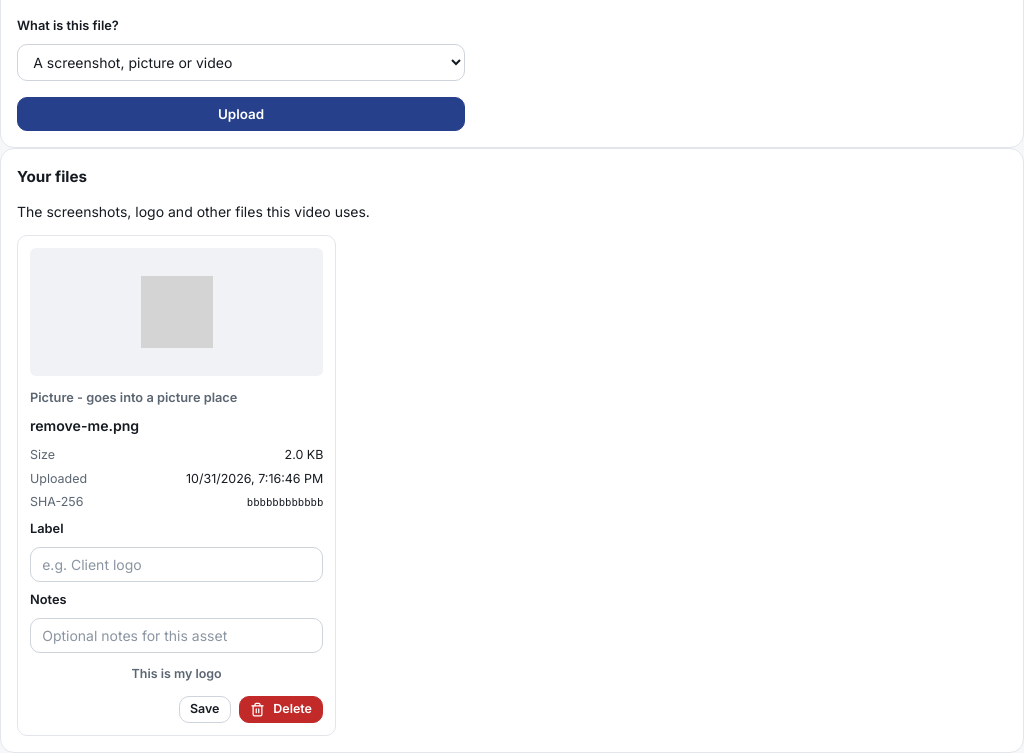
Scenario: ProjectAssetsTab › deletes the asset once the confirmation is accepted
(page scrolled)
expect the text "remove-me.png" is shown: met, box left=30, top=417, right=139, bottom=434
Step 1. Click the button "Delete" → (281, 710), box left=239, top=696, right=323, bottom=723
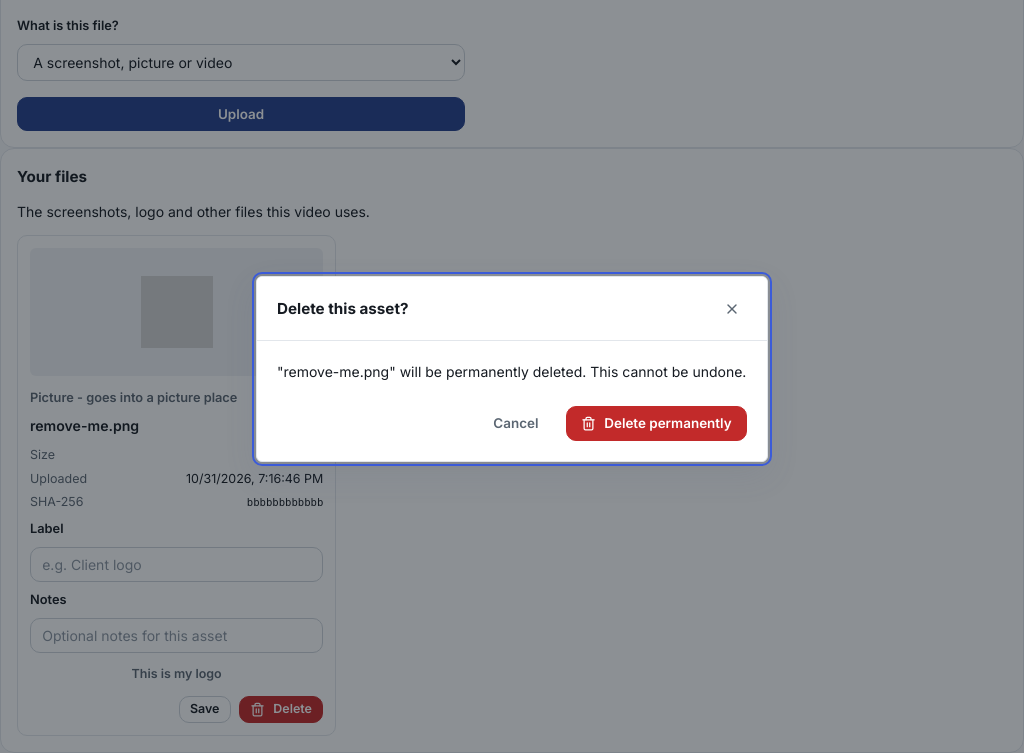
expect the text "Delete this asset?" is shown: met, box left=277, top=297, right=408, bottom=320
Step 2. Click the button "Delete permanently" → (656, 424), box left=566, top=406, right=747, bottom=441
(page scrolled)
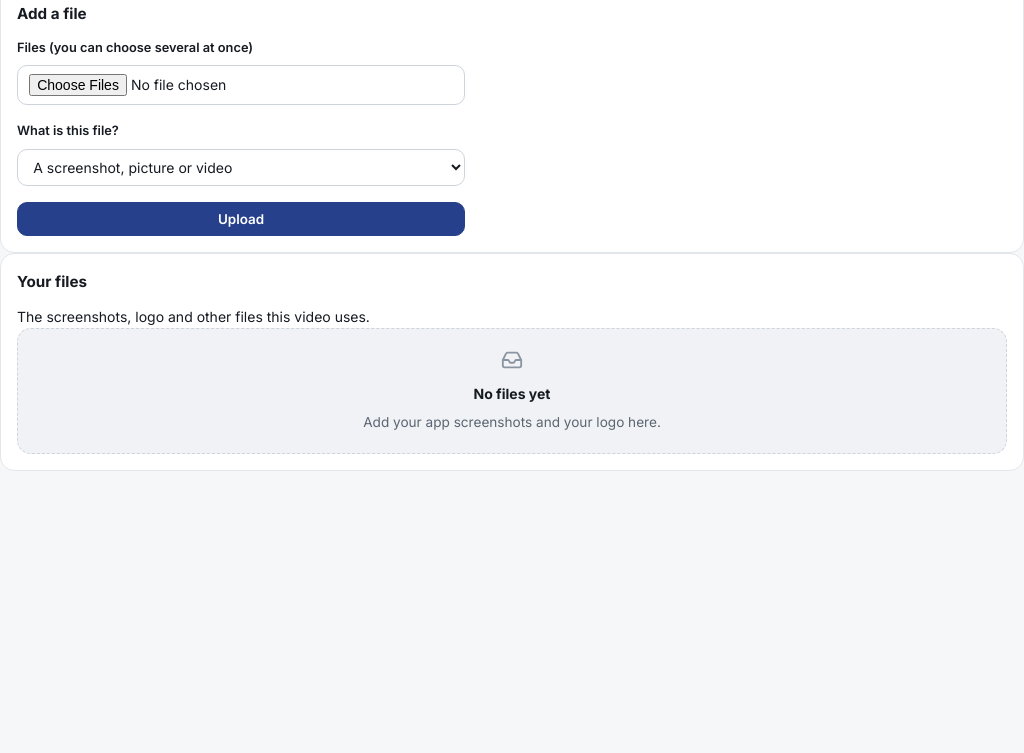
expect the text "No files yet" is shown: met, box left=474, top=383, right=550, bottom=404
